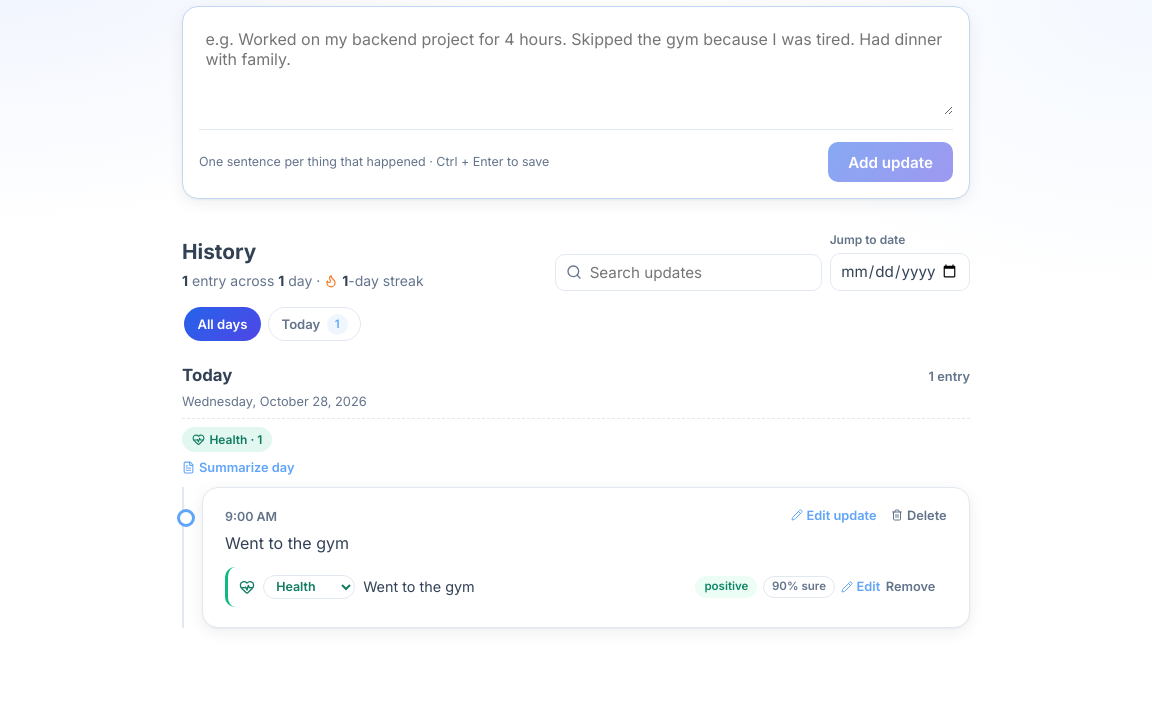
Test: Editing updates › edits a single categorized statement
The width and height of the screenshot is (1152, 720).
(page scrolled)
Expected: the 1st text "Went to the gym" is shown, [225,533,349,553]
Click the button "Edit" at point(860, 587), box [840,579,880,594]
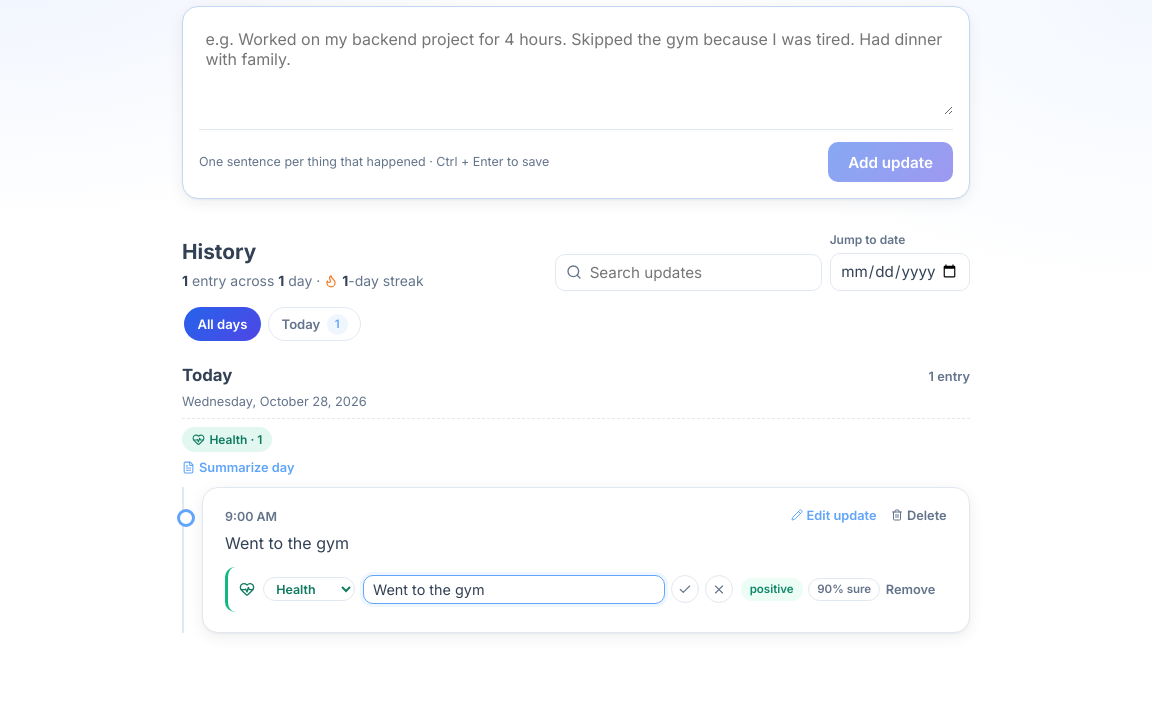
Replace the text in the field named "Edit statement" with "Went to the gym for leg day." at point(514, 589), box [363,575,666,604]
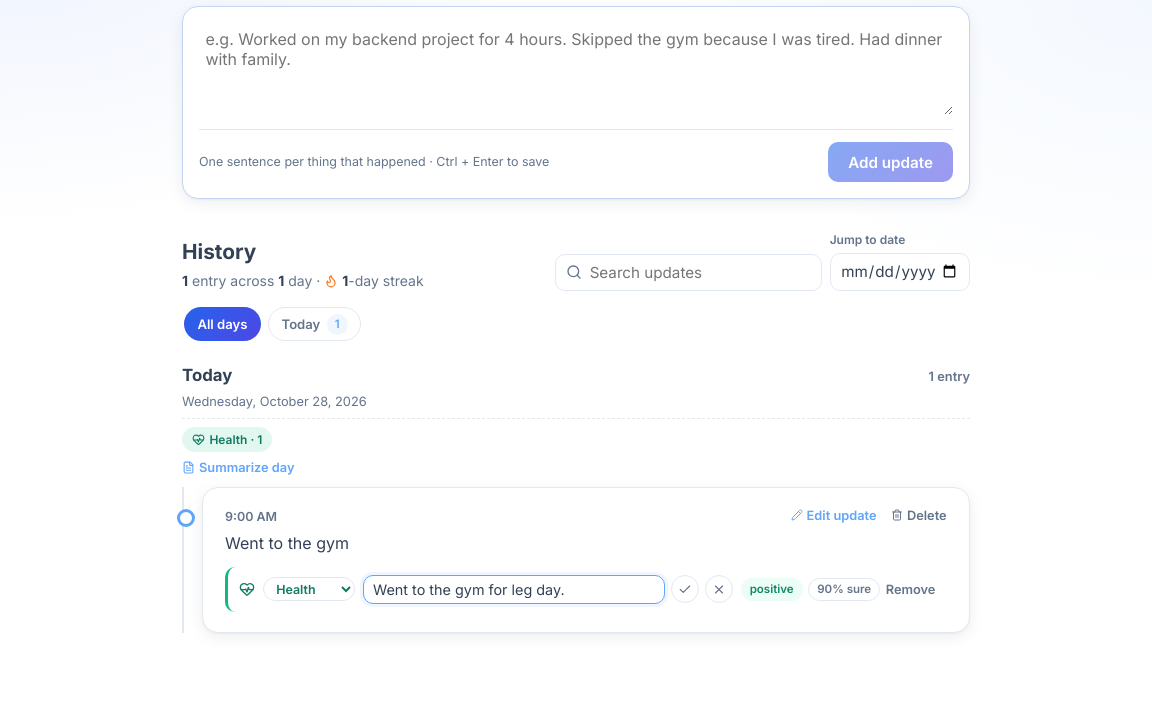
Press Enter in the field named "Edit statement", box [363,575,666,604]
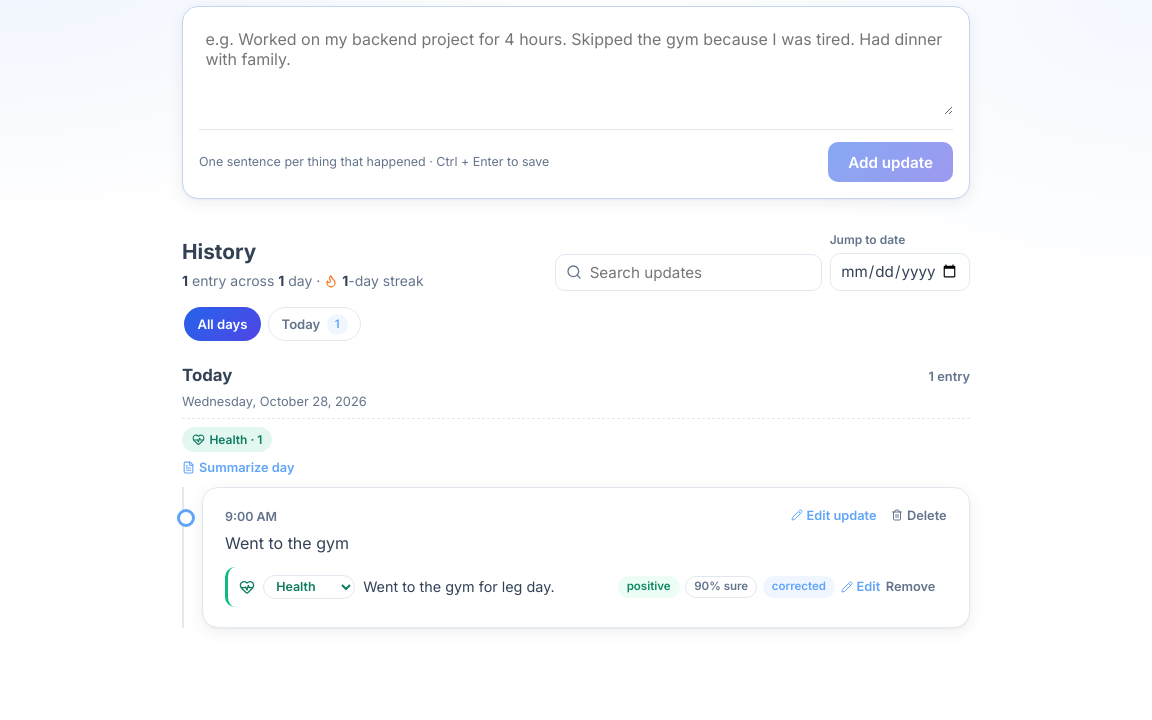
Expected: the text "Went to the gym" is shown, [225,533,349,553]
Expected: the text "Went to the gym for leg day." is shown, [363,576,555,598]
Expected: the text "corrected" is shown, [763,576,835,598]
